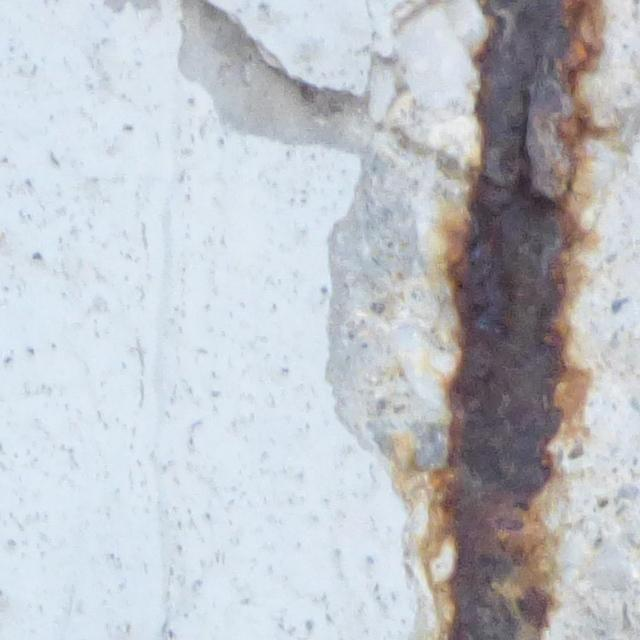Rust: (428, 1, 615, 639)
